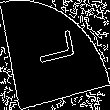L_W: (31, 34, 79, 76)
